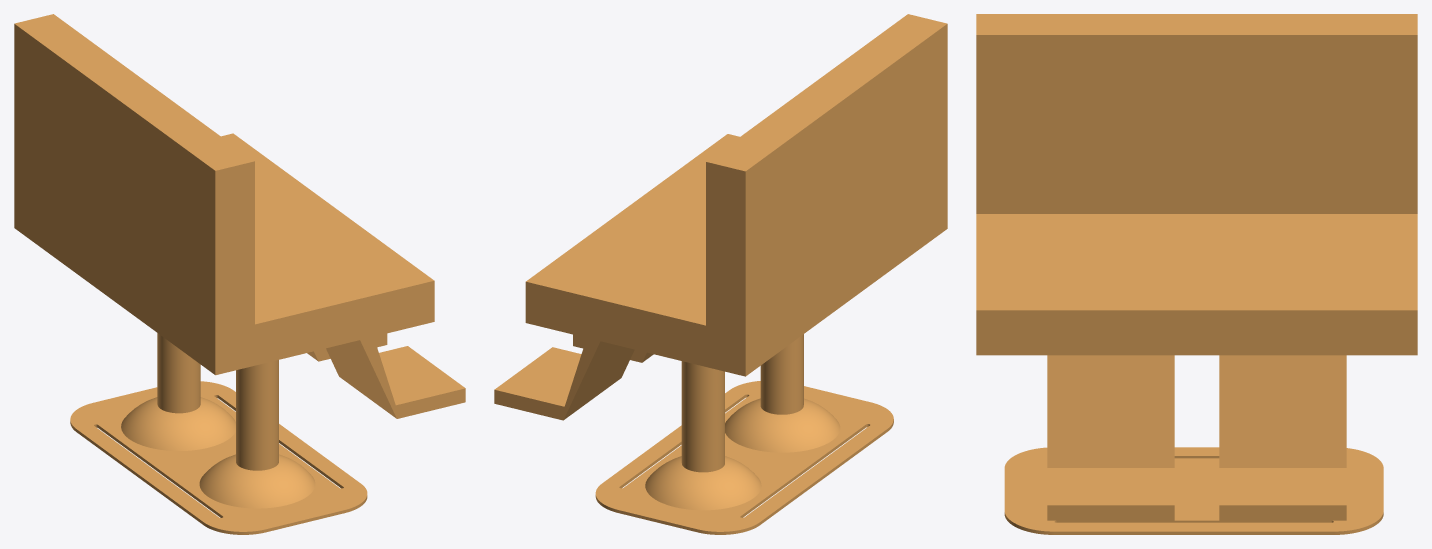
File: OUTFITTING_INTERIOR__helm seat.glb
3 renders of one model, left to right at view 1: azimuth 30°, elevation 25°; view 2: azimuth 150°, elevation 25°; view 3: azimuth 270°, elevation 25°, orthographic. The views are drawn at different scales.
Parts seen in each view (by area): view 1: helm seat; view 2: helm seat; view 3: helm seat.
Boxes of the visible parts, x1,y1,x2,y2 form: helm seat: [14, 14, 465, 534]; helm seat: [494, 14, 947, 534]; helm seat: [976, 14, 1417, 534].
Size of the model in its own units: 0.9116 by 1.19 by 1.12.
